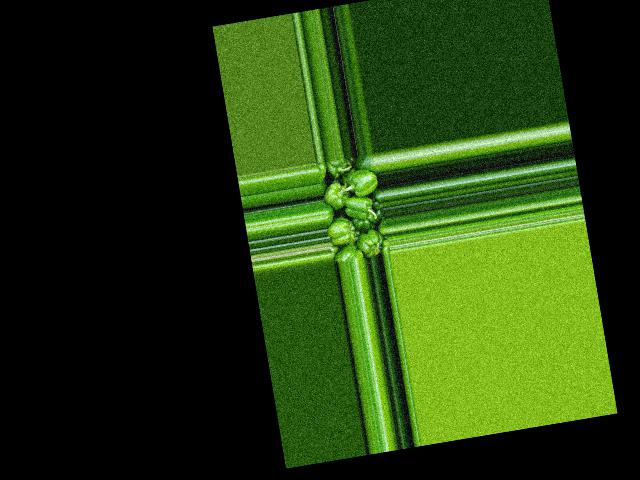bell_pepper: (354, 152, 377, 178)
